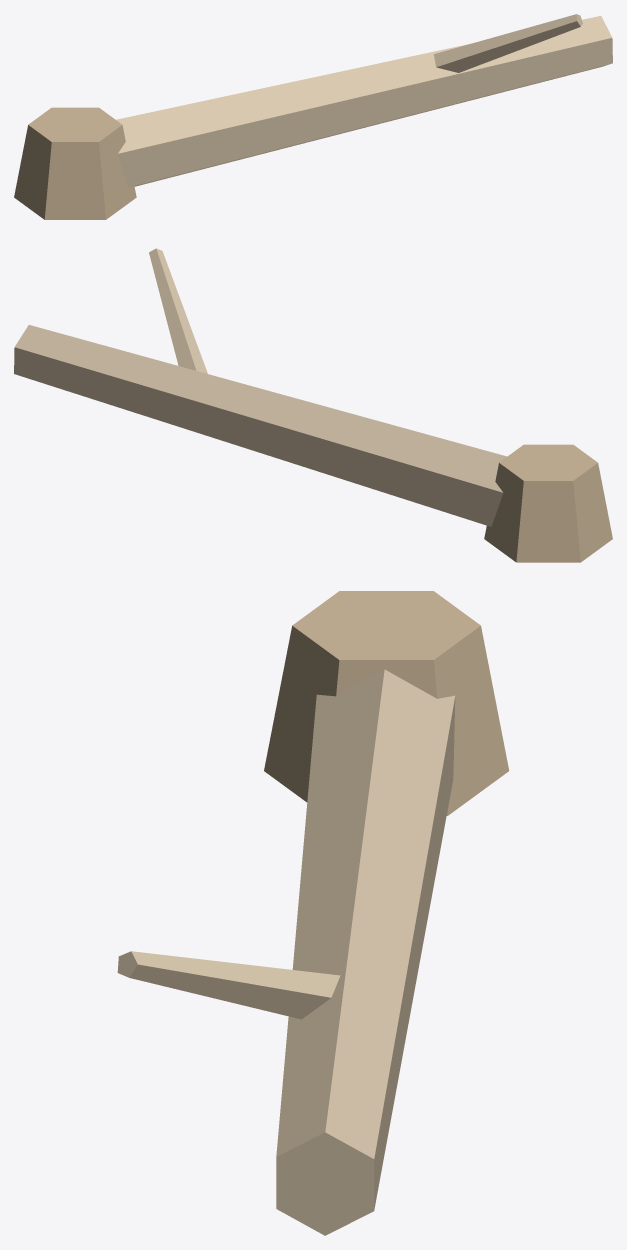
Rendered from driftwood_log.glb.
3 renders of one model, top to bottom at view 1: azimuth 30°, elevation 25°; view 2: azimuth 150°, elevation 25°; view 3: azimuth 270°, elevation 25°, orthographic. The views are drawn at different scales.
Visible parts, largest first — view 1: driftwood_l25, driftwood_l10; view 2: driftwood_l25, driftwood_l10; view 3: driftwood_l25, driftwood_l10.
Boxes of the visible parts, bbox=[...] form: driftwood_l25: bbox=[116, 14, 612, 187]; driftwood_l10: bbox=[14, 107, 136, 219]; driftwood_l25: bbox=[14, 248, 506, 526]; driftwood_l10: bbox=[484, 444, 612, 562]; driftwood_l25: bbox=[117, 669, 455, 1235]; driftwood_l10: bbox=[264, 591, 509, 815].
Size of the model in its own units: 2.73 by 0.5971 by 0.8298.
